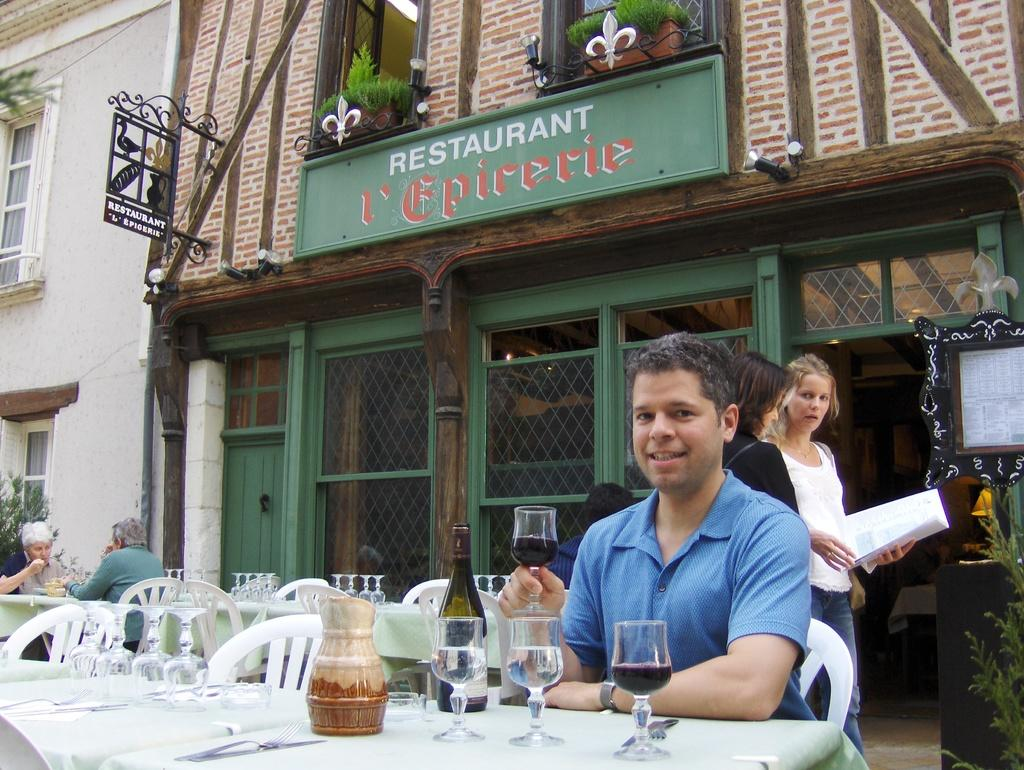Sem Máscara: (629, 366, 721, 490), (788, 372, 830, 429), (755, 391, 781, 434), (24, 537, 51, 562)
